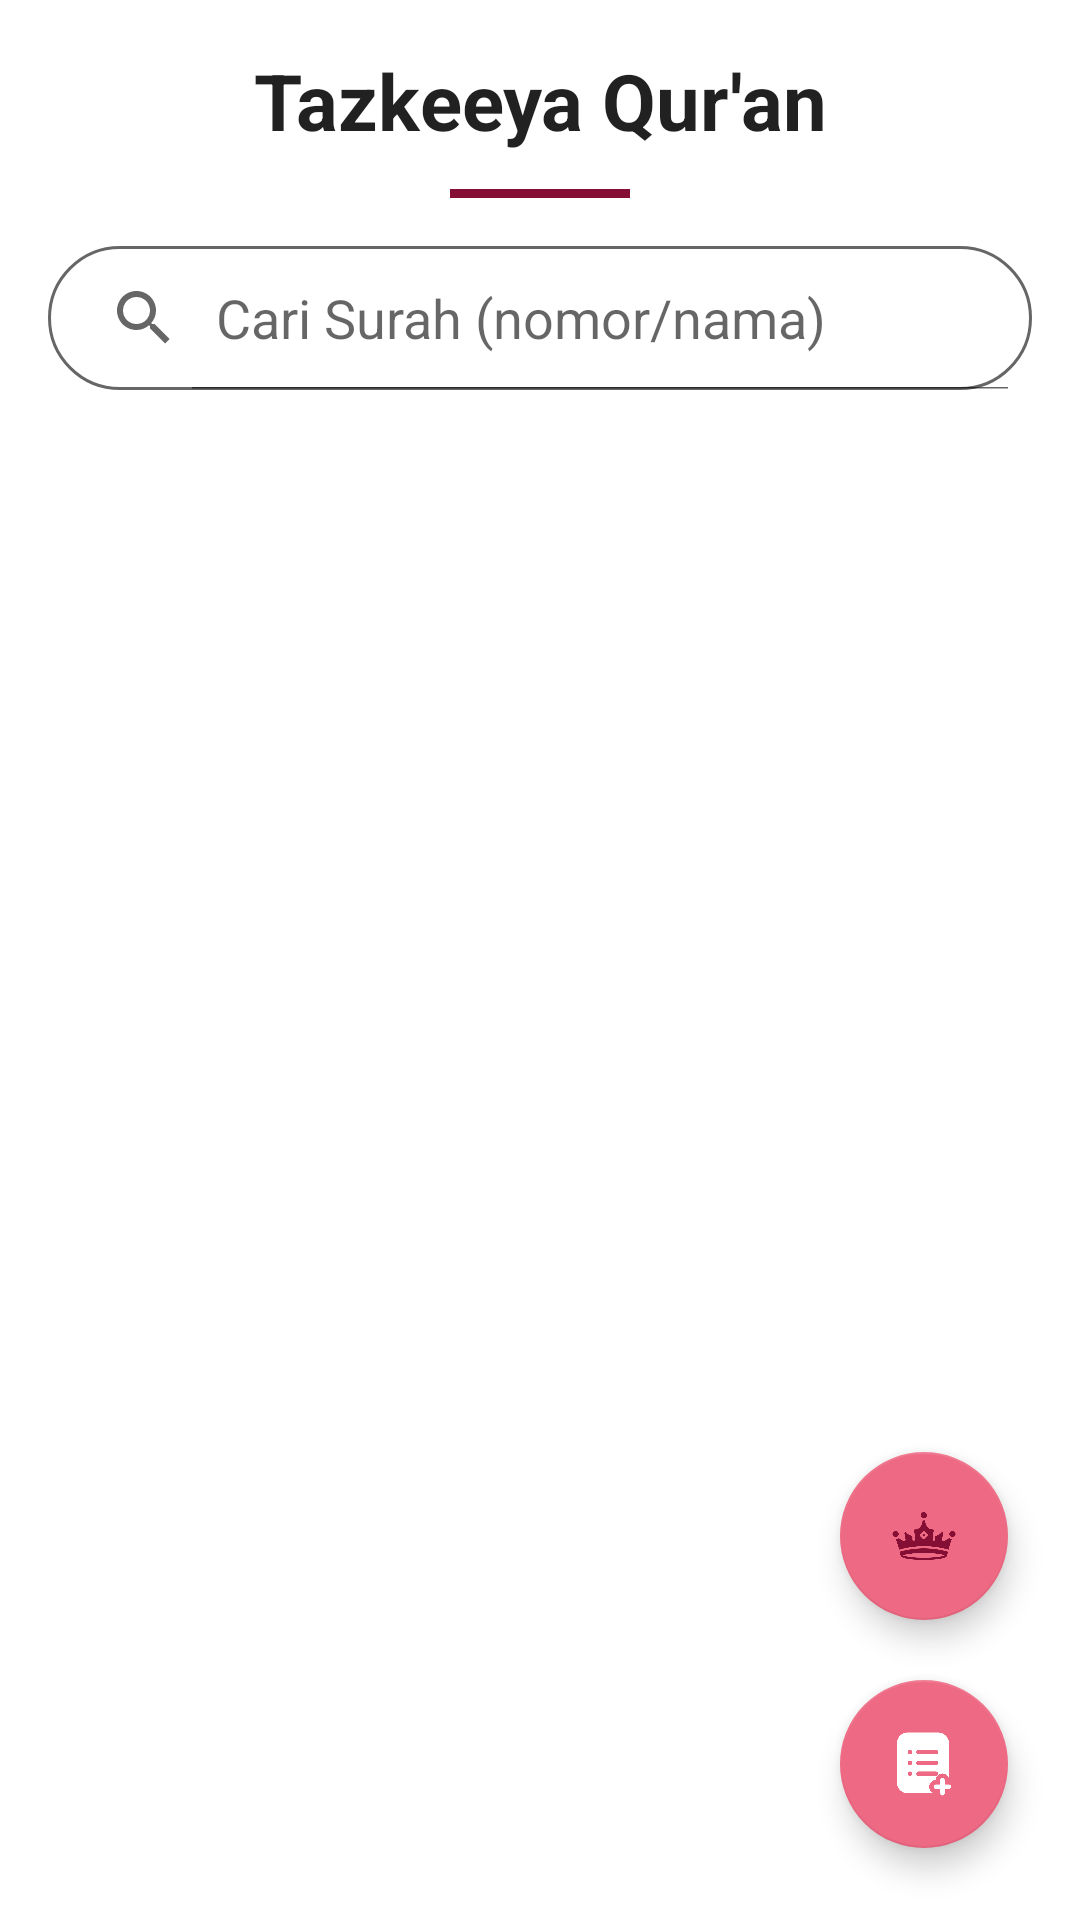

Named icons in this screenshot (1080w x 1920h) and their bounding boxes, (x1, y1, x2, y2):
Tambah Catatan Bacaan: (840, 1680, 1008, 1848)
